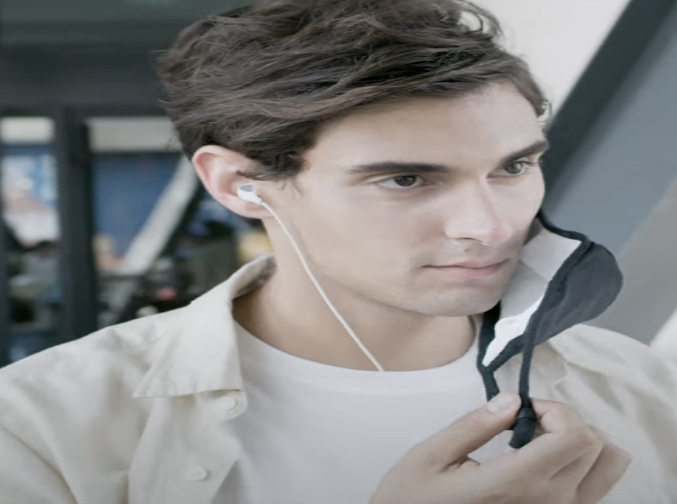mask_weared_incorrect: (169, 2, 626, 377)
